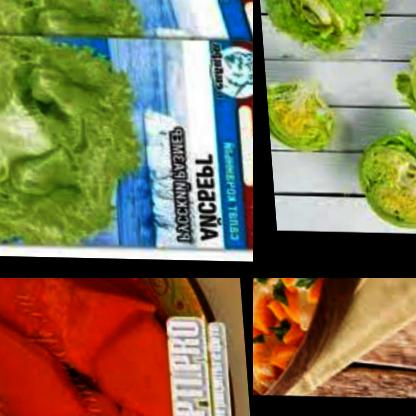pumpkin: (82, 307, 179, 416), (253, 278, 339, 395), (0, 298, 83, 416), (54, 278, 153, 368), (0, 278, 83, 346)
salad: (0, 37, 155, 239), (255, 0, 393, 58), (0, 0, 152, 49), (351, 130, 416, 234), (262, 75, 338, 155), (389, 27, 416, 125)
